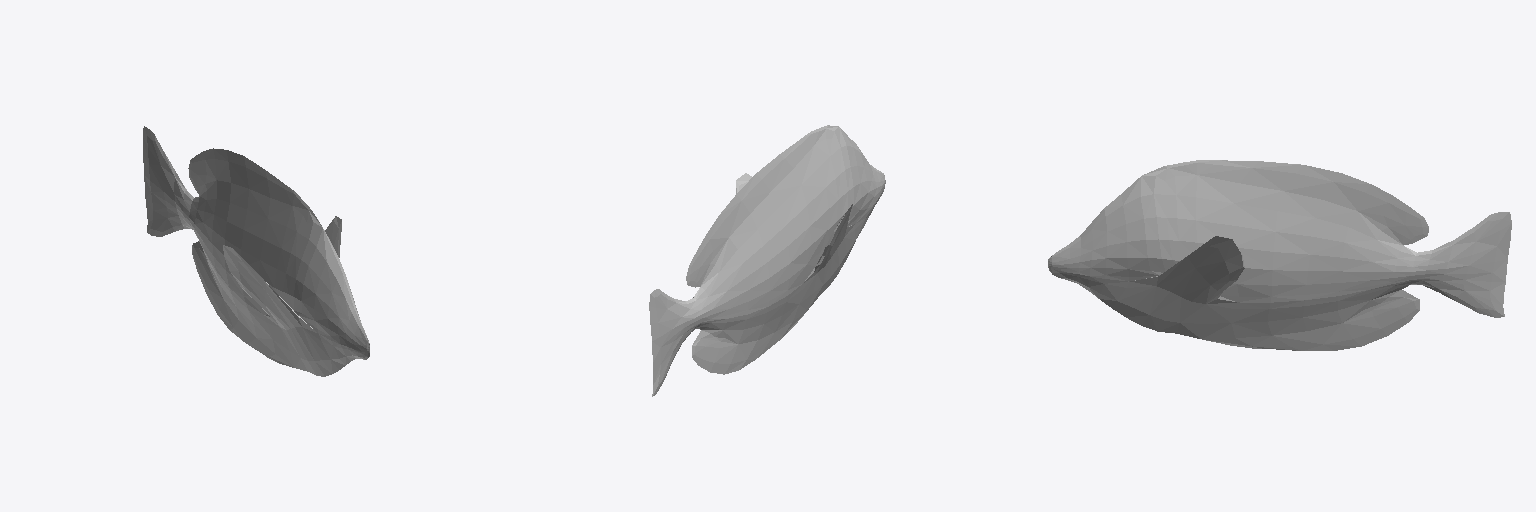
File: blueyellowfish1dMPanim1.obj
3 views of the same model, side by side, from view 1: azimuth 30°, elevation 25°; view 2: azimuth 150°, elevation 25°; view 3: azimuth 270°, elevation 25° (orthographic).
Parts seen in each view (by area): view 1: Plane; view 2: Plane; view 3: Plane.
Part boxes in pixels (left/top/right/bottom): Plane: left=143, top=126, right=369, bottom=376; Plane: left=649, top=125, right=885, bottom=396; Plane: left=1048, top=160, right=1511, bottom=350.
Bounding box in the file's own units: 2.22 × 3.59 × 7.93.